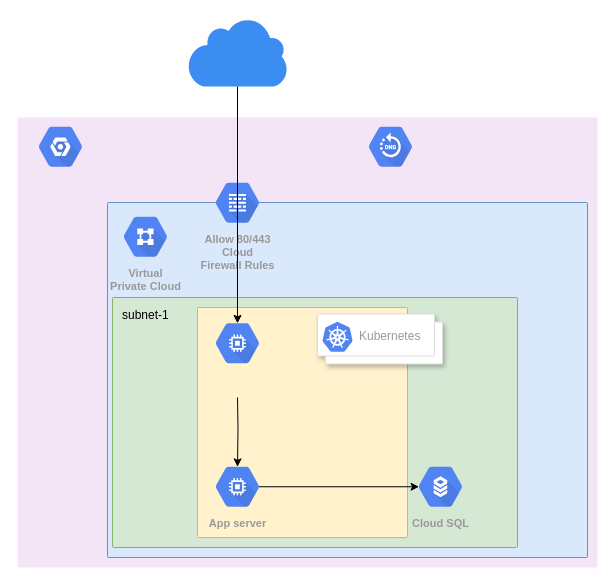
Some shapes in this 614 by 584 pixel diagram are drawn without their labels. Here are the shapes that lost their labels. From the top down, the centre of each, then its label:
At [60,146]: "tag-mng-cloud".
At [390,146]: "Cloud DNS(ここ？)".
At [237,343]: "Web server".
